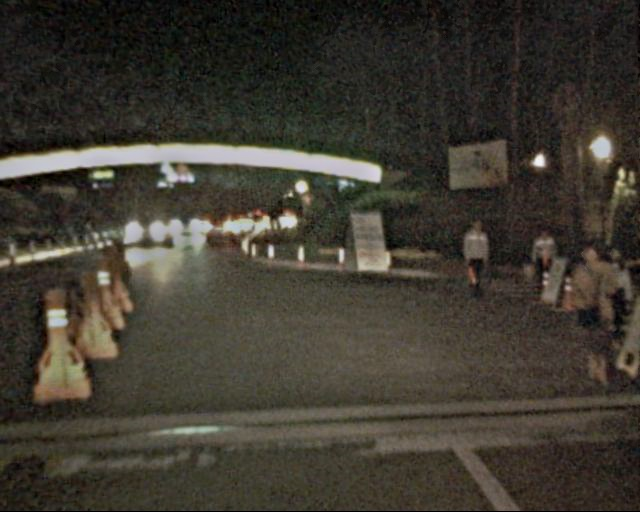person: (563, 244, 618, 379), (583, 243, 640, 366), (459, 221, 493, 304), (529, 226, 559, 290)
